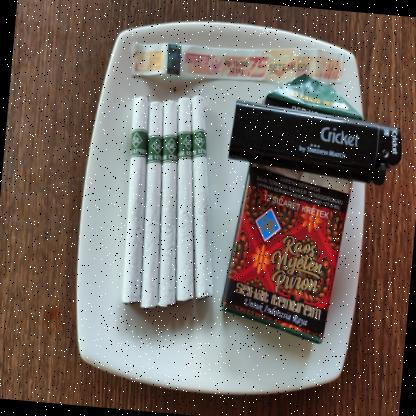bungkus rokok: (215, 67, 368, 348)
